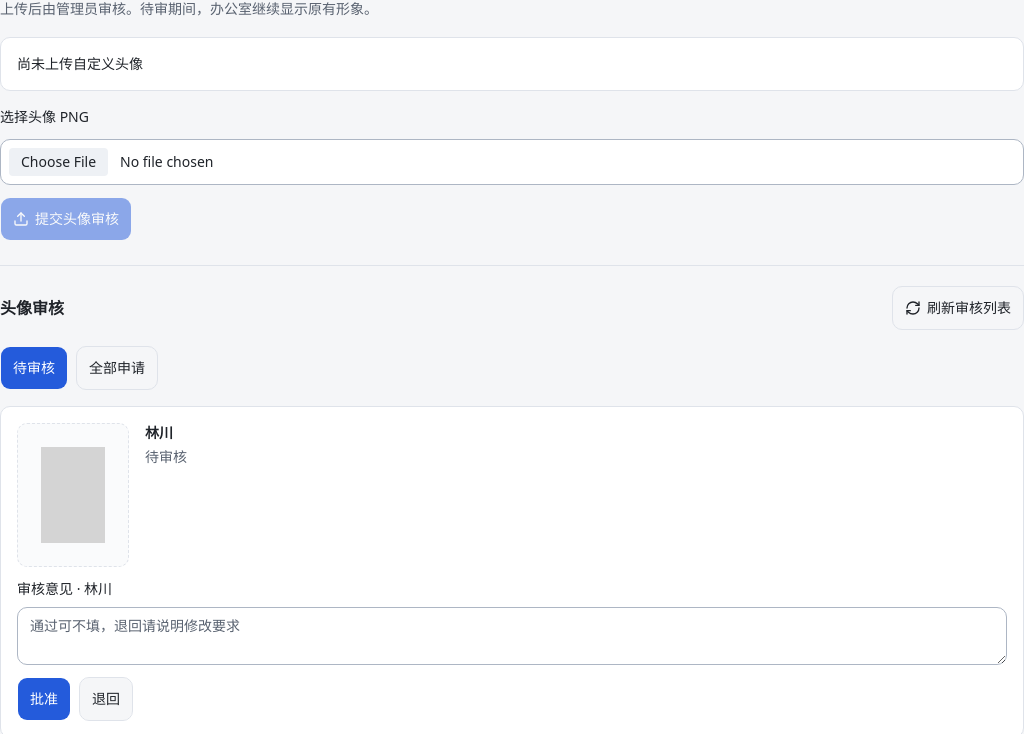
Scenario: office avatar upload and moderation › approves a pending avatar and reports a failed decision with retry controls
The width and height of the screenshot is (1024, 734).
(page scrolled)
Click the button with aria-label "批准林川的头像".
click(44, 699)  # box [17,677,71,721]
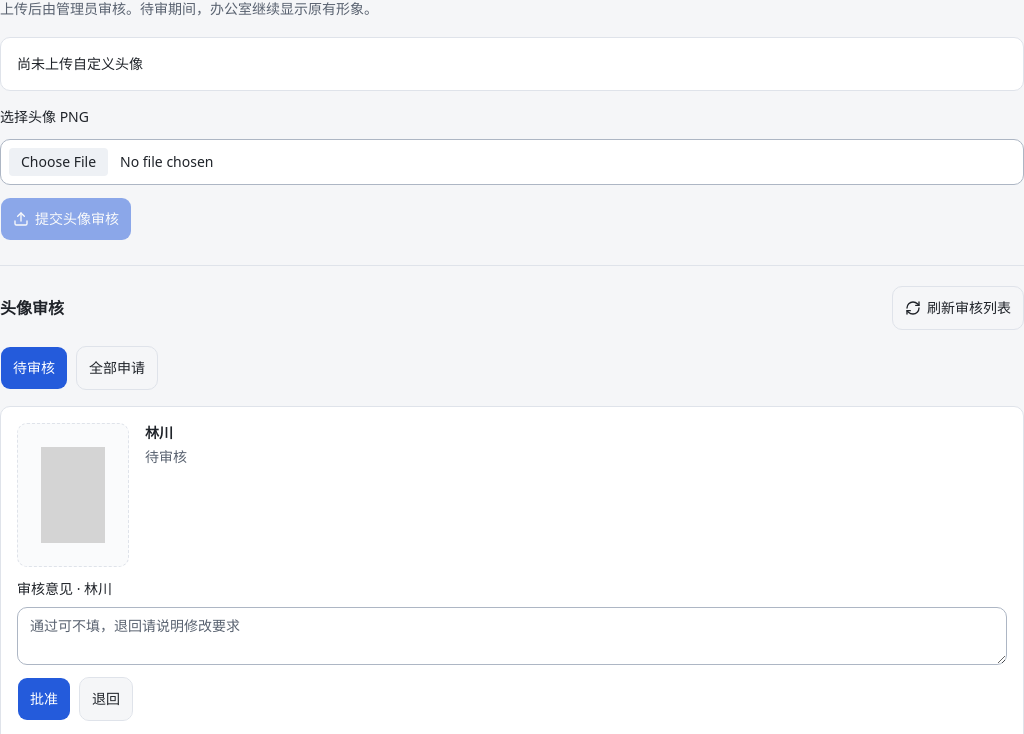
Click the button with aria-label "批准林川的头像".
click(44, 699)  # box [17,677,71,721]
(page scrolled)
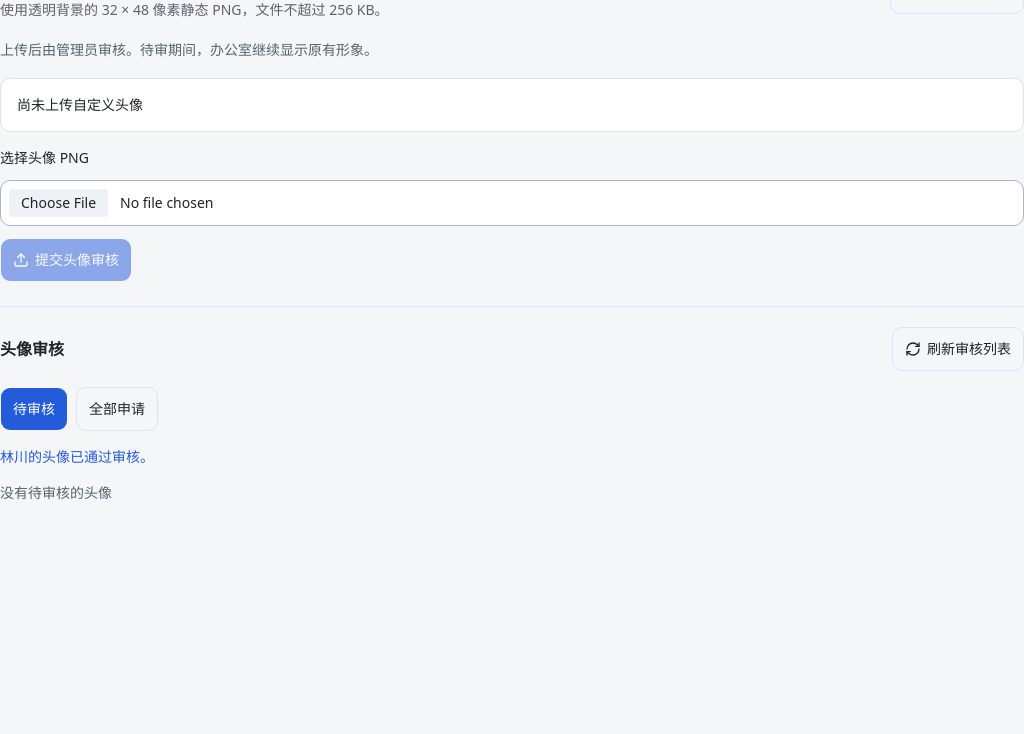
Expected: the text "没有待审核的头像" is shown, [0,483,112,502]
